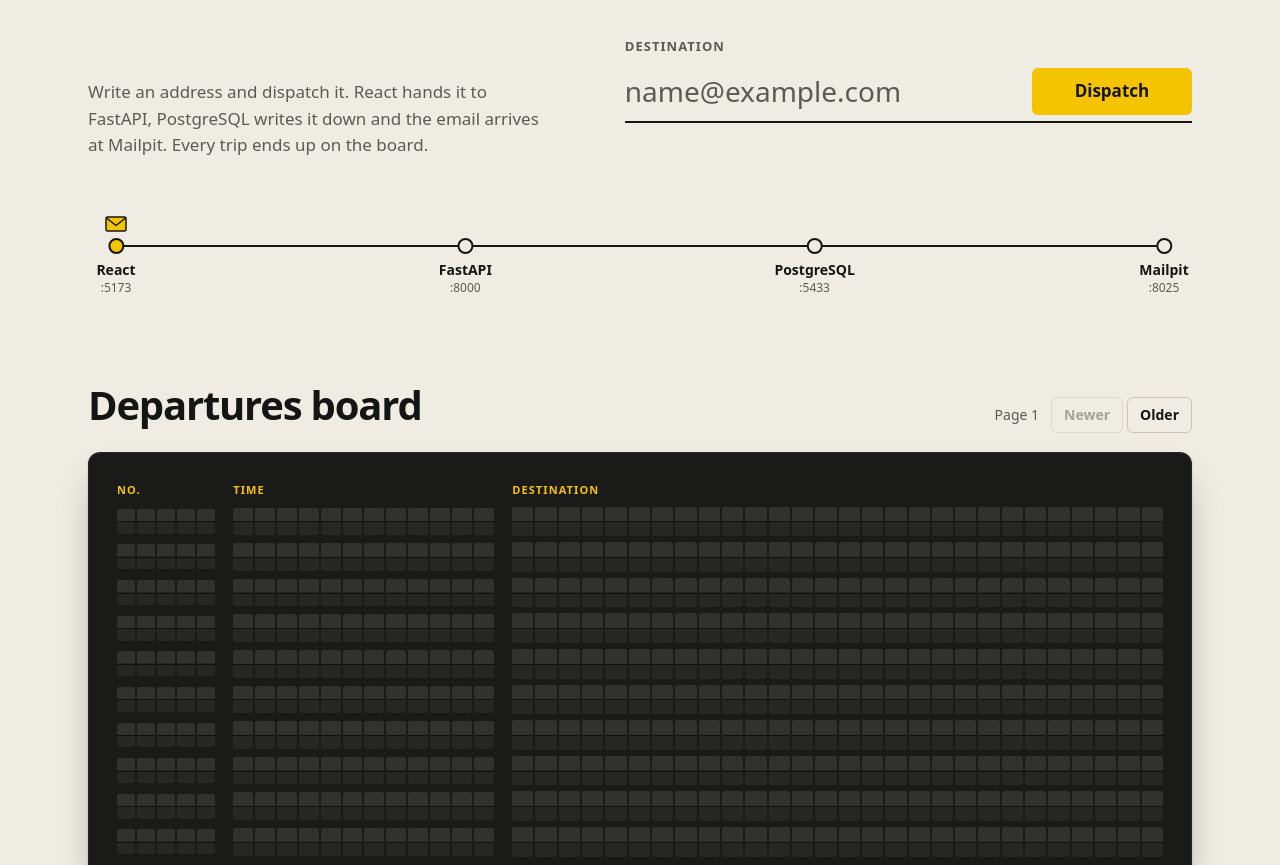
HomePage board › "Newer" goes back one page
(page scrolled)
Click the button "Older" at (1160, 415), box [1127,397,1192,433]
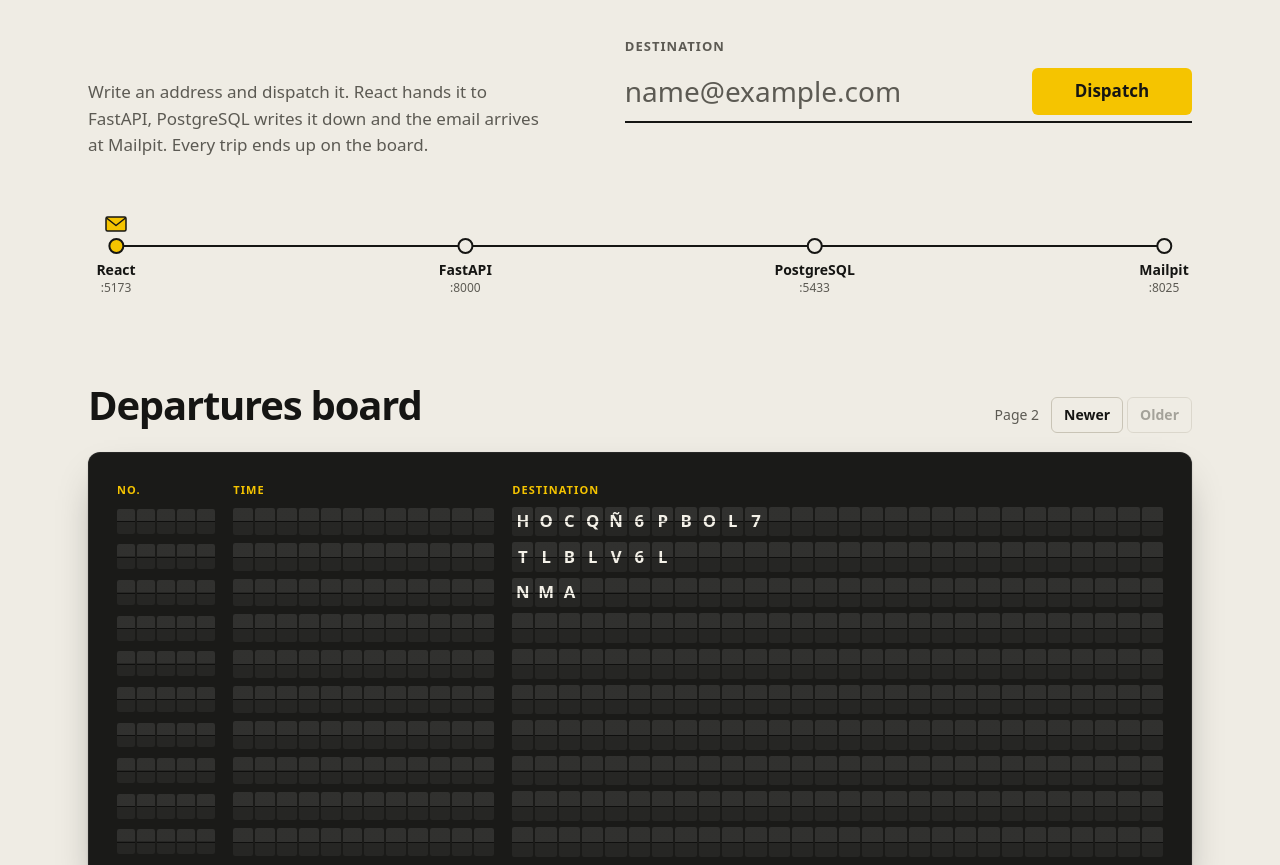
Result: the button "Newer" is enabled
Click the button "Newer" at (1087, 415), box [1051,397,1123,433]
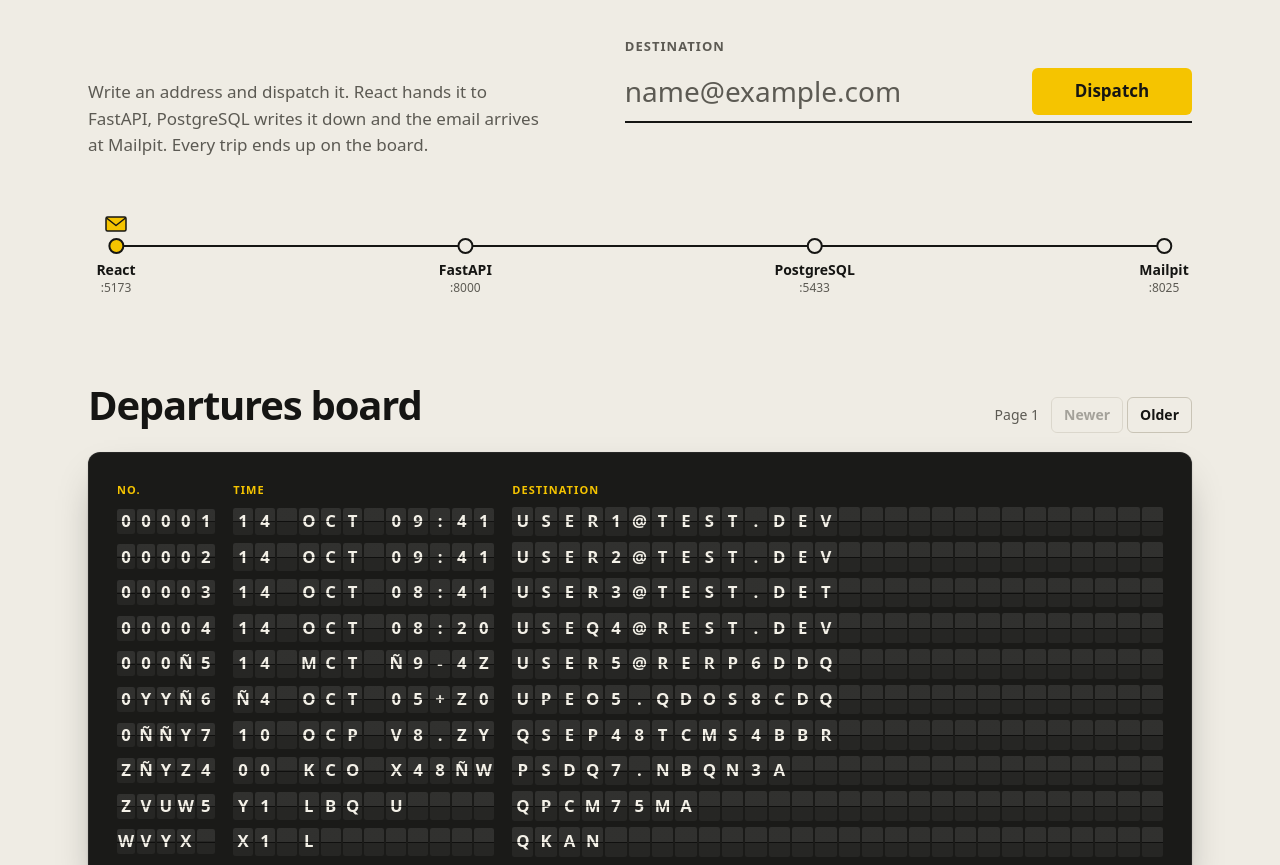
Result: the text "Page 1" is shown at [995,404,1039,426]
